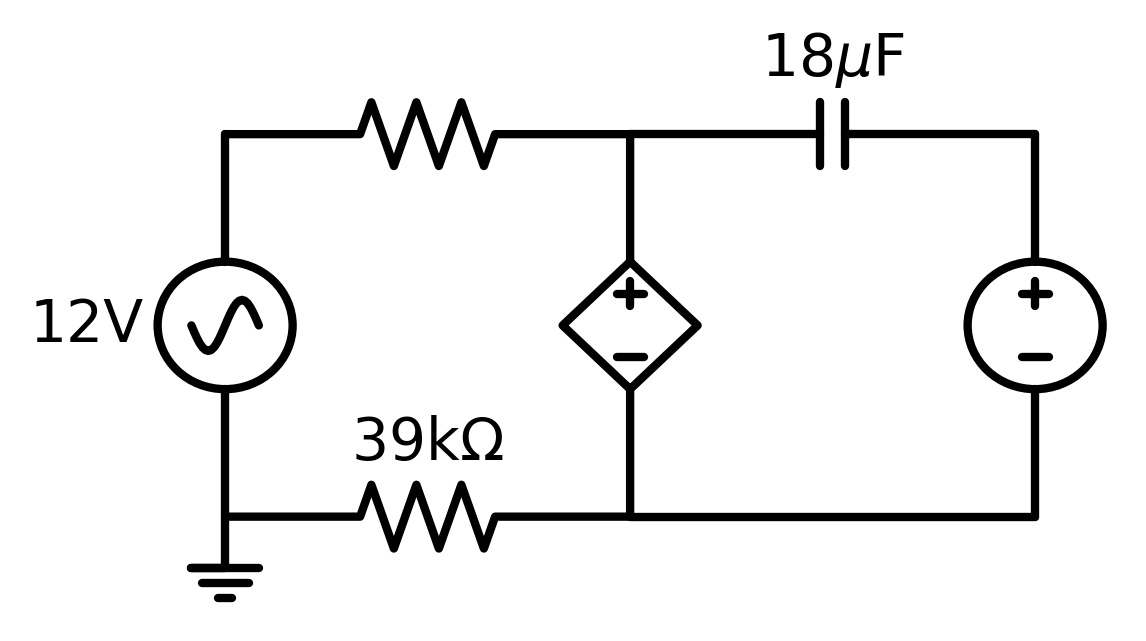capacitor: (783, 90, 890, 190)
ground: (175, 542, 278, 611)
resistor: (330, 467, 526, 571), (338, 83, 513, 180)
sourceac: (149, 251, 317, 399)
sourcedc: (949, 248, 1110, 403)
sourcevc: (547, 253, 723, 402)
